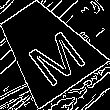M_NW: (11, 15, 81, 83)
